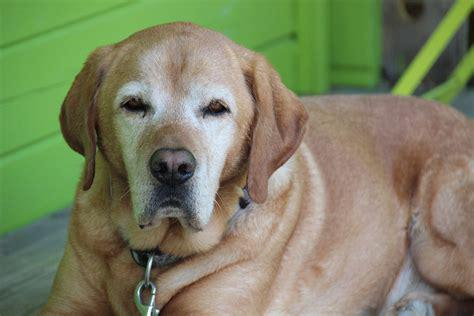dog: (46, 21, 474, 316)
